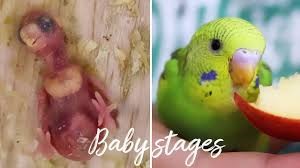budgie: (160, 18, 274, 153)
